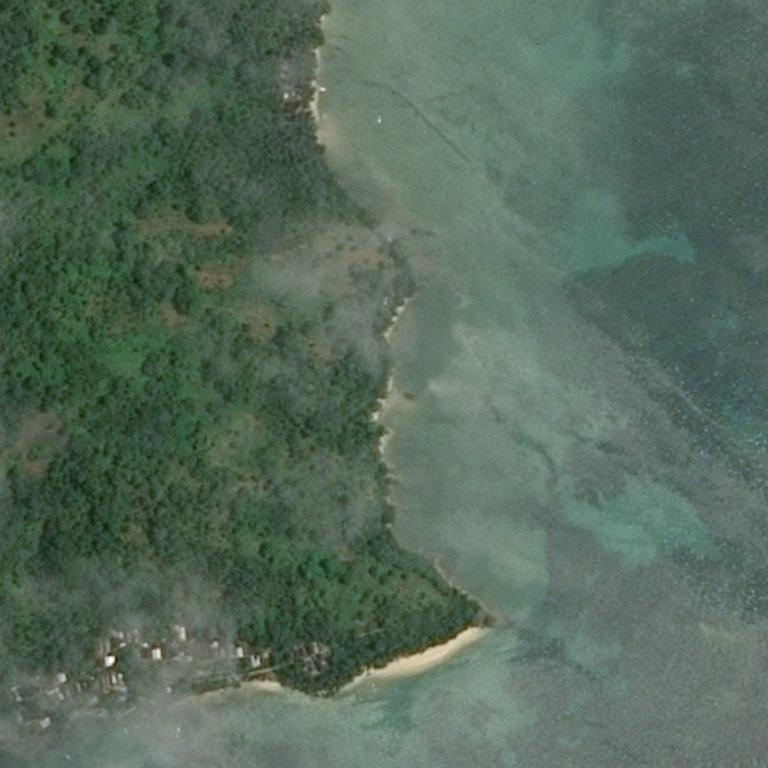ship: (175, 730, 182, 735), (46, 731, 53, 734), (379, 115, 381, 117), (126, 728, 128, 730), (26, 727, 28, 728), (377, 123, 378, 124), (381, 123, 382, 124), (178, 737, 179, 738), (153, 727, 154, 728), (128, 736, 129, 737), (124, 730, 125, 731), (380, 41, 380, 45)
